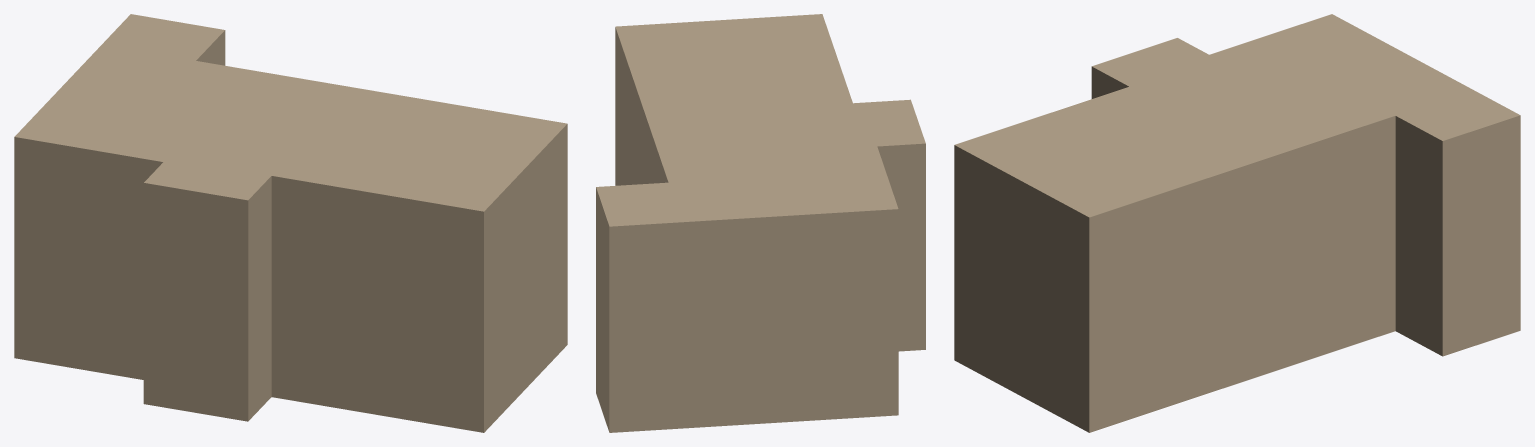
Rendered from bld_106339132.dae.
The picture shows the model from 3 angles, left to right: view 1: azimuth 30°, elevation 25°; view 2: azimuth 150°, elevation 25°; view 3: azimuth 270°, elevation 25°; orthographic projection. The views are drawn at different scales.
Visible parts, largest first — view 1: bld_106339132; view 2: bld_106339132; view 3: bld_106339132.
Boxes of the visible parts, x1,y1,x2,y2 form: bld_106339132: (14, 14, 567, 432); bld_106339132: (596, 14, 925, 432); bld_106339132: (954, 14, 1520, 432).
Bounding box in the file's own units: 16.21 × 19.06 × 8.
